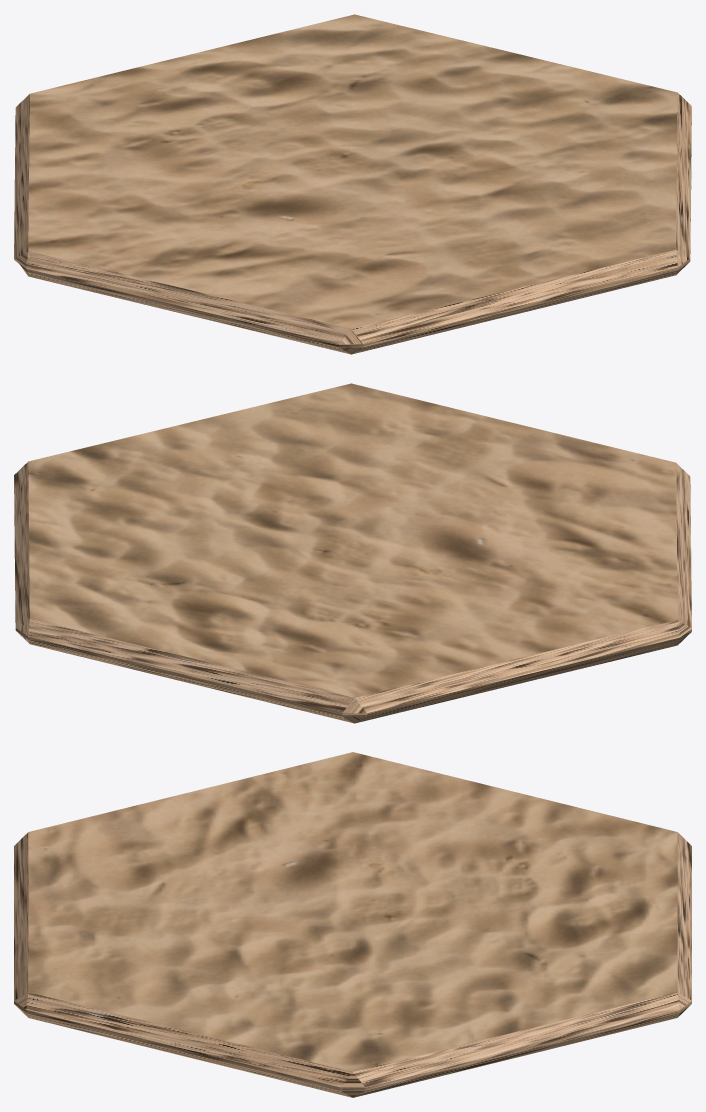
Rendered from hexagonWueste2.fbx.
3 views of the same model, one above another, from view 1: azimuth 30°, elevation 25°; view 2: azimuth 150°, elevation 25°; view 3: azimuth 270°, elevation 25° (orthographic).
Parts seen in each view (by area): view 1: Cylinder.001; view 2: Cylinder.001; view 3: Cylinder.001.
Boxes of the visible parts, left/top/right/bottom form: Cylinder.001: left=14, top=14, right=691, bottom=354; Cylinder.001: left=14, top=383, right=691, bottom=723; Cylinder.001: left=14, top=752, right=691, bottom=1097.
Size of the model in its own units: 115 by 4.22 by 100.
Materials: 1 (1 with a texture image).
